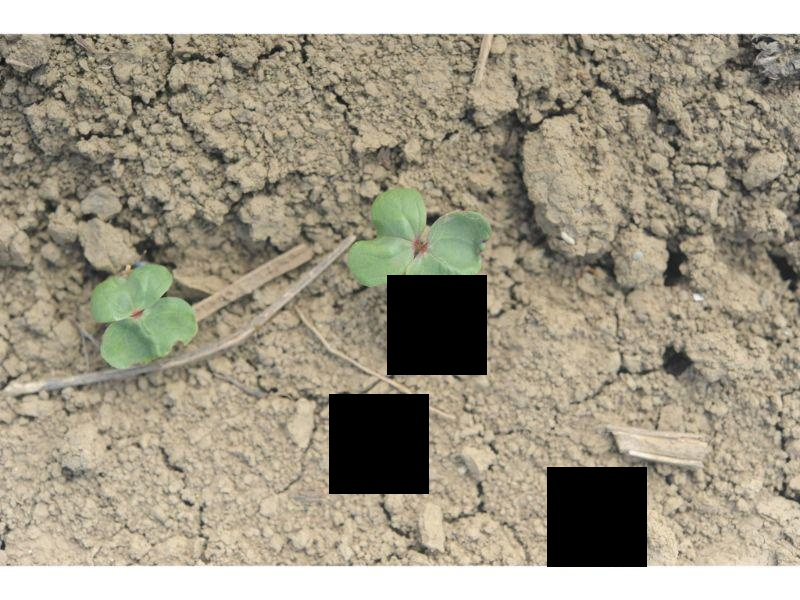cotton: (352, 189, 492, 327), (90, 261, 195, 371)
